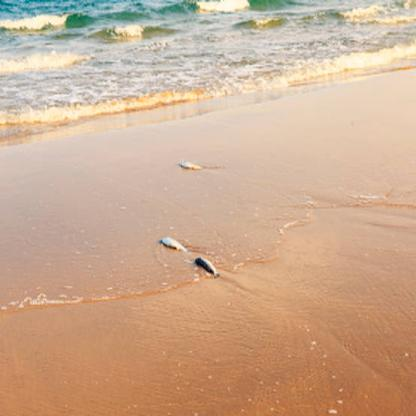deceased fish: (195, 256, 219, 278), (159, 237, 185, 253), (179, 160, 203, 172)
